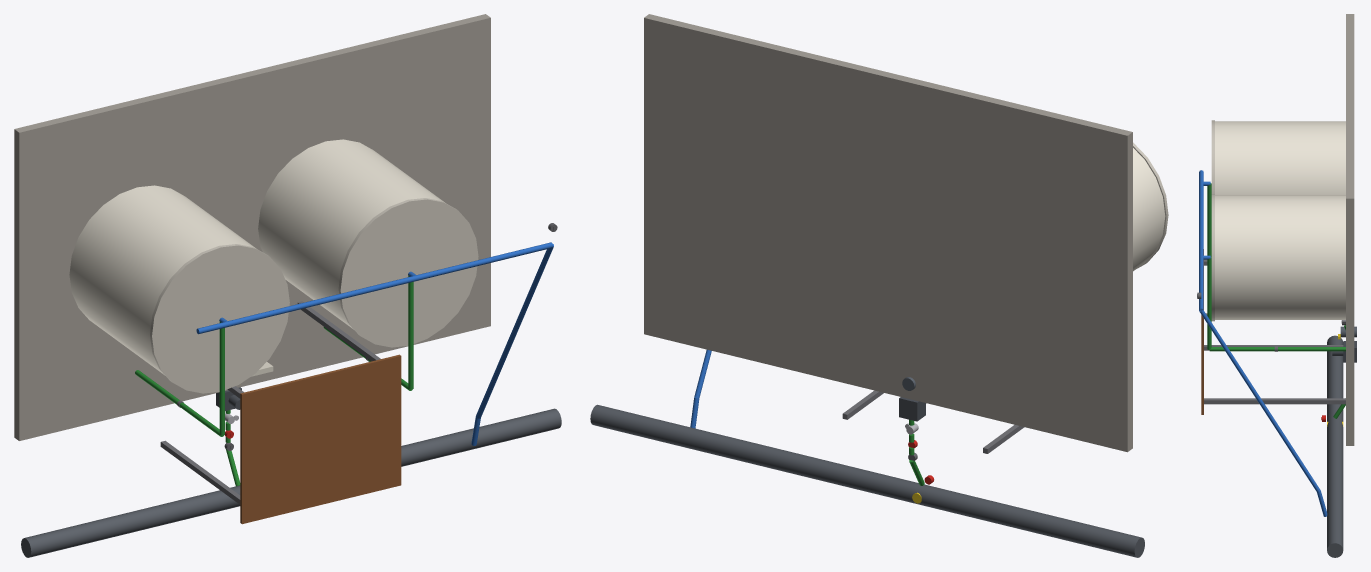
Rendered from fertirrigacao_caixas_10mil.obj.
3 views of the same model, side by side, from view 1: azimuth 30°, elevation 25°; view 2: azimuth 150°, elevation 25°; view 3: azimuth 270°, elevation 25° (orthographic). The views are drawn at different scales.
Parts seen in each view (by area): view 1: base_concreto, cobertura, caixa_1_corpo, caixa_2_corpo, caixa_1_tampa, caixa_2_tampa, adutora, agua_principal, agua_lavagem, pilar_0_0, pilar_23_17; view 2: base_concreto, adutora, caixa_1_corpo; view 3: caixa_2_corpo, caixa_1_corpo, base_concreto, adutora, agua_lavagem, pilar_23_0, agua_principal, recirc_riser_2, caixa_2_tampa, recirc_ret_2, recirc_ret_1, cobertura (+2 smaller).
Boxes of the visible parts, x1,y1,x2,y2 form: base_concreto: [14, 14, 490, 440]; cobertura: [240, 354, 401, 524]; caixa_1_corpo: [69, 185, 256, 375]; caixa_2_corpo: [258, 139, 444, 329]; caixa_1_tampa: [150, 244, 289, 393]; caixa_2_tampa: [338, 198, 478, 347]; adutora: [21, 408, 561, 557]; agua_principal: [196, 242, 552, 334]; agua_lavagem: [476, 243, 553, 418]; pilar_0_0: [160, 440, 240, 504]; pilar_23_17: [297, 301, 380, 361]; base_concreto: [644, 14, 1132, 452]; adutora: [590, 404, 1144, 557]; caixa_1_corpo: [1133, 148, 1165, 271]; caixa_2_corpo: [1215, 195, 1345, 319]; caixa_1_corpo: [1215, 121, 1345, 194]; base_concreto: [1346, 14, 1354, 445]; adutora: [1327, 335, 1343, 557]; agua_lavagem: [1200, 310, 1320, 492]; pilar_23_0: [1204, 398, 1345, 404]; agua_principal: [1199, 170, 1203, 311]; recirc_riser_2: [1209, 347, 1345, 351]; caixa_2_tampa: [1211, 194, 1214, 321]; recirc_ret_2: [1207, 257, 1211, 349]; recirc_ret_1: [1207, 183, 1211, 256]; cobertura: [1201, 249, 1203, 414].
Bounding box in the file's own units: 9 × 6.8 × 2.93.
